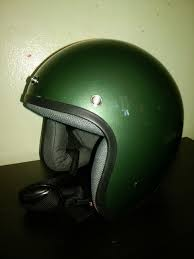helmet: (20, 38, 184, 211)
